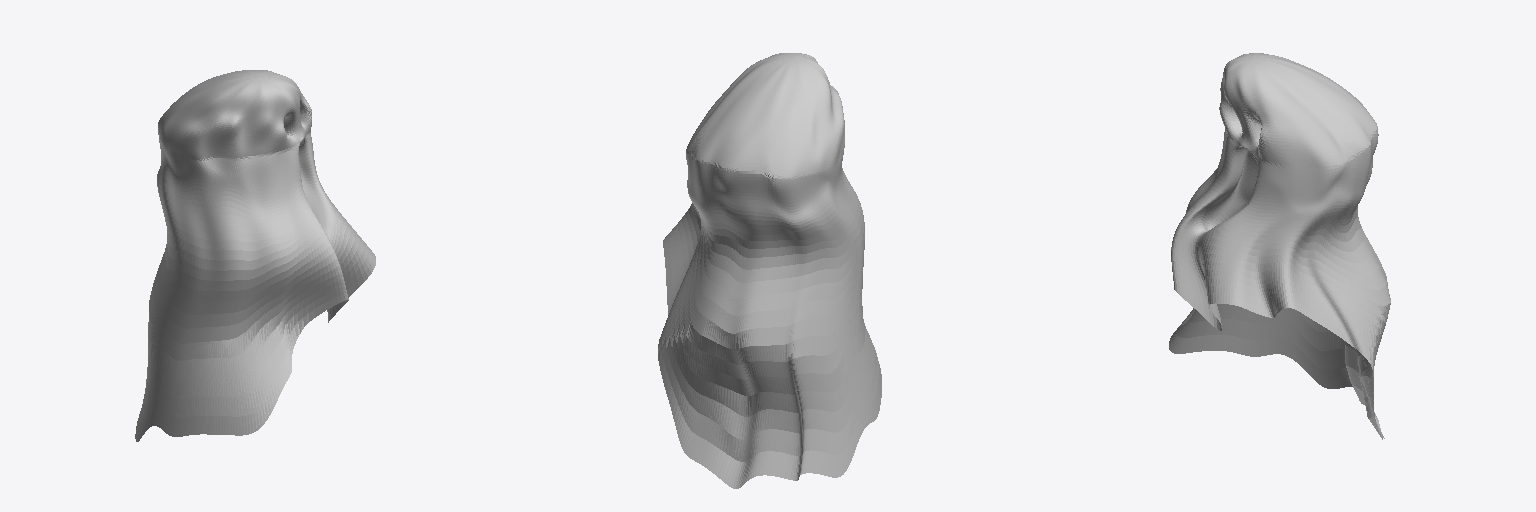
The model's file is ghost_000025.obj.
3 renders of one model, left to right at view 1: azimuth 30°, elevation 25°; view 2: azimuth 150°, elevation 25°; view 3: azimuth 270°, elevation 25°, orthographic.
Visible parts, largest first — view 1: 球体; view 2: 球体; view 3: 球体.
Boxes of the visible parts, box(x1,y1,x2,y2) form: 球体: box(135, 70, 375, 441); 球体: box(658, 53, 881, 488); 球体: box(1169, 53, 1390, 439).
Bounding box in the file's own units: 8.62 × 15.89 × 8.38.